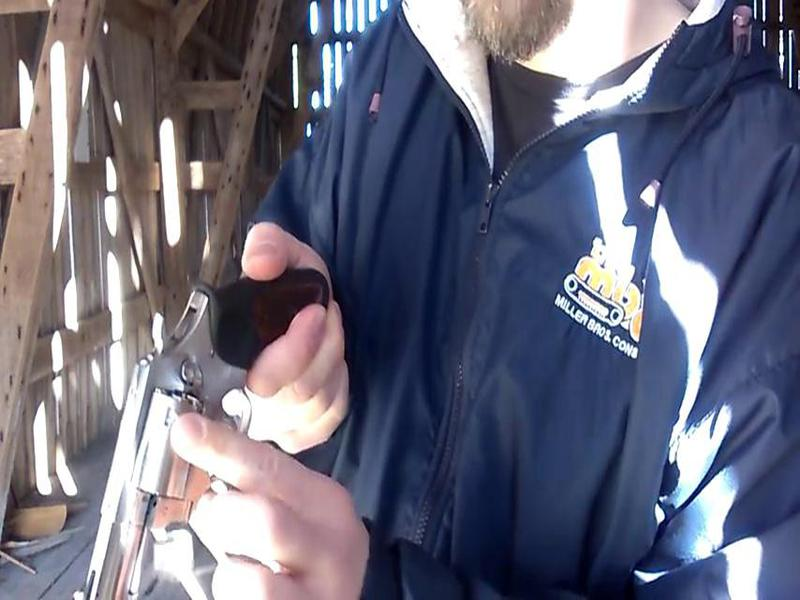Revolver: (58, 264, 369, 600)
